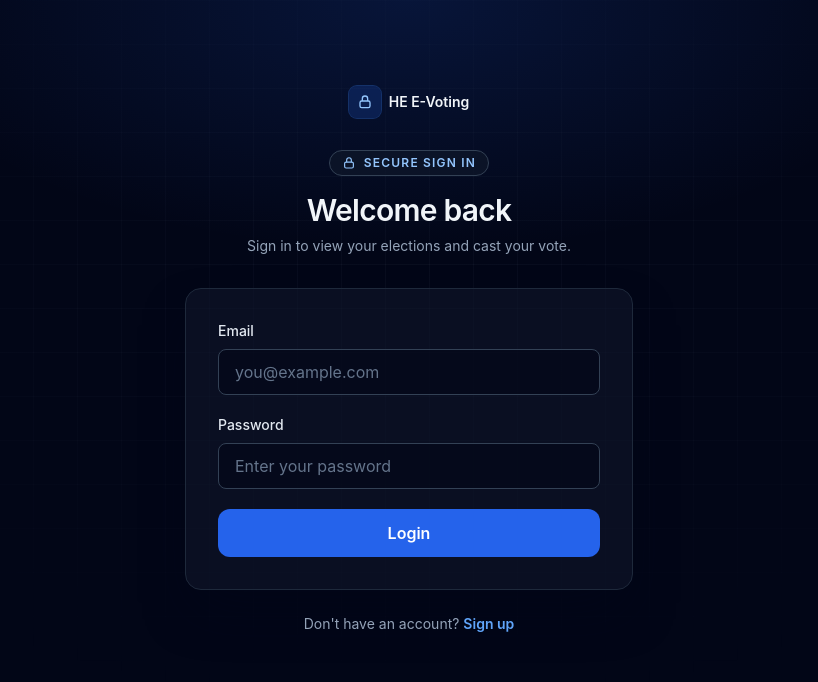
Test: Login rejects incomplete credentials › still surfaces the server message for a failed credential check
Type "x@test.com" into the field labelled "Email" at (409,372), box [218,349,600,395]
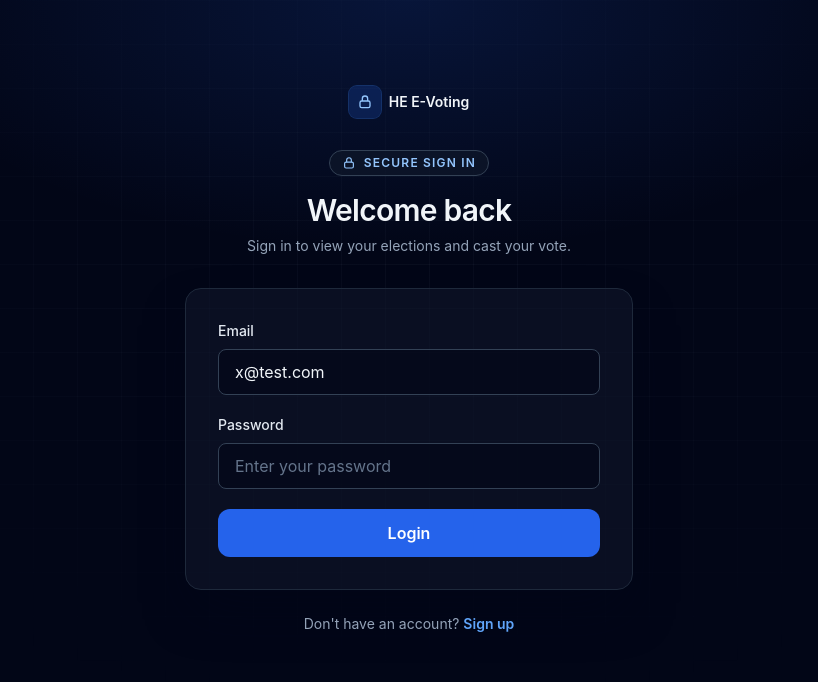
Type "wrong" into the password field labelled "Password" at (409,466), box [218,443,600,489]
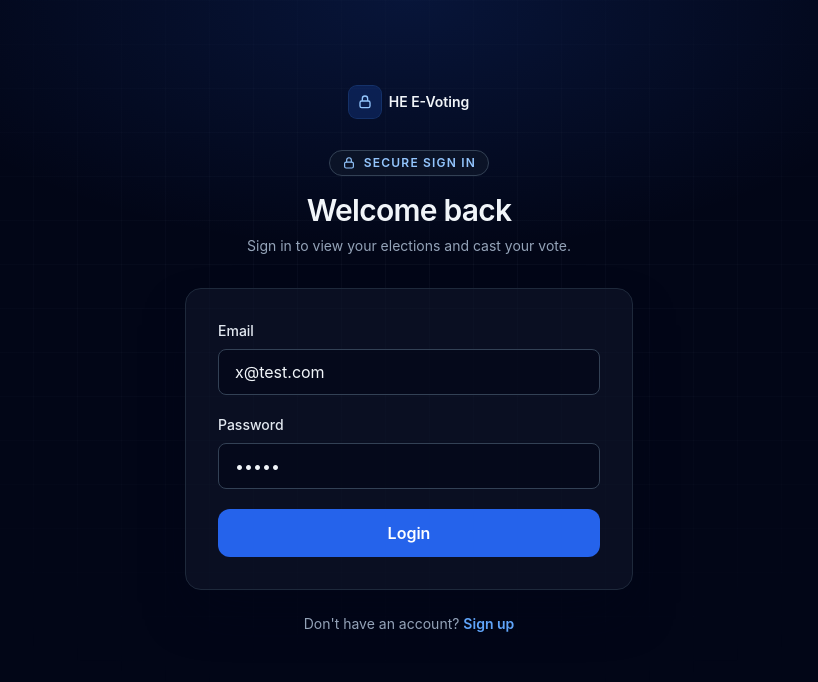
Click the button "Login" at (409,533), box [218,509,600,557]
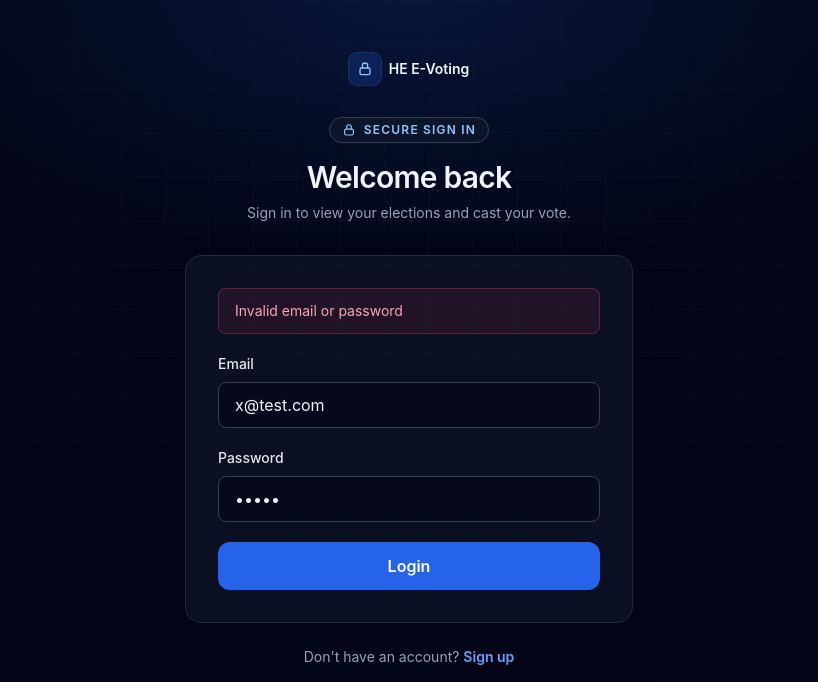
Expected: the message reads "Invalid email or password", [235,302,403,319]
